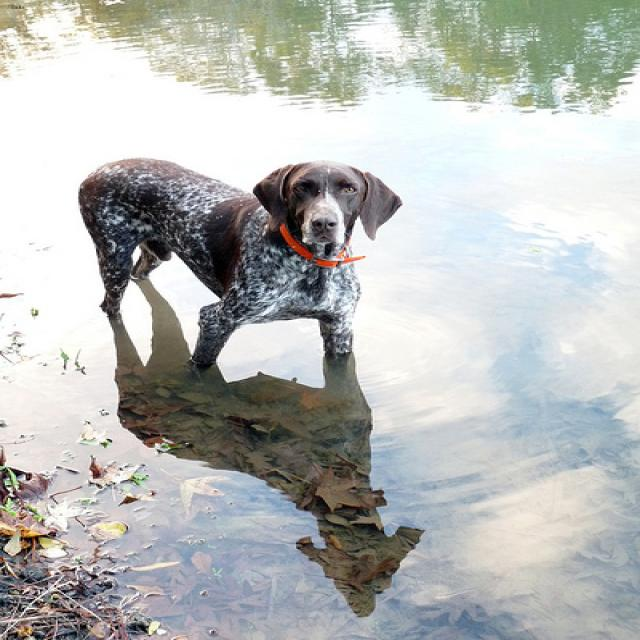dog-german_shorthaired: (59, 148, 411, 385)
